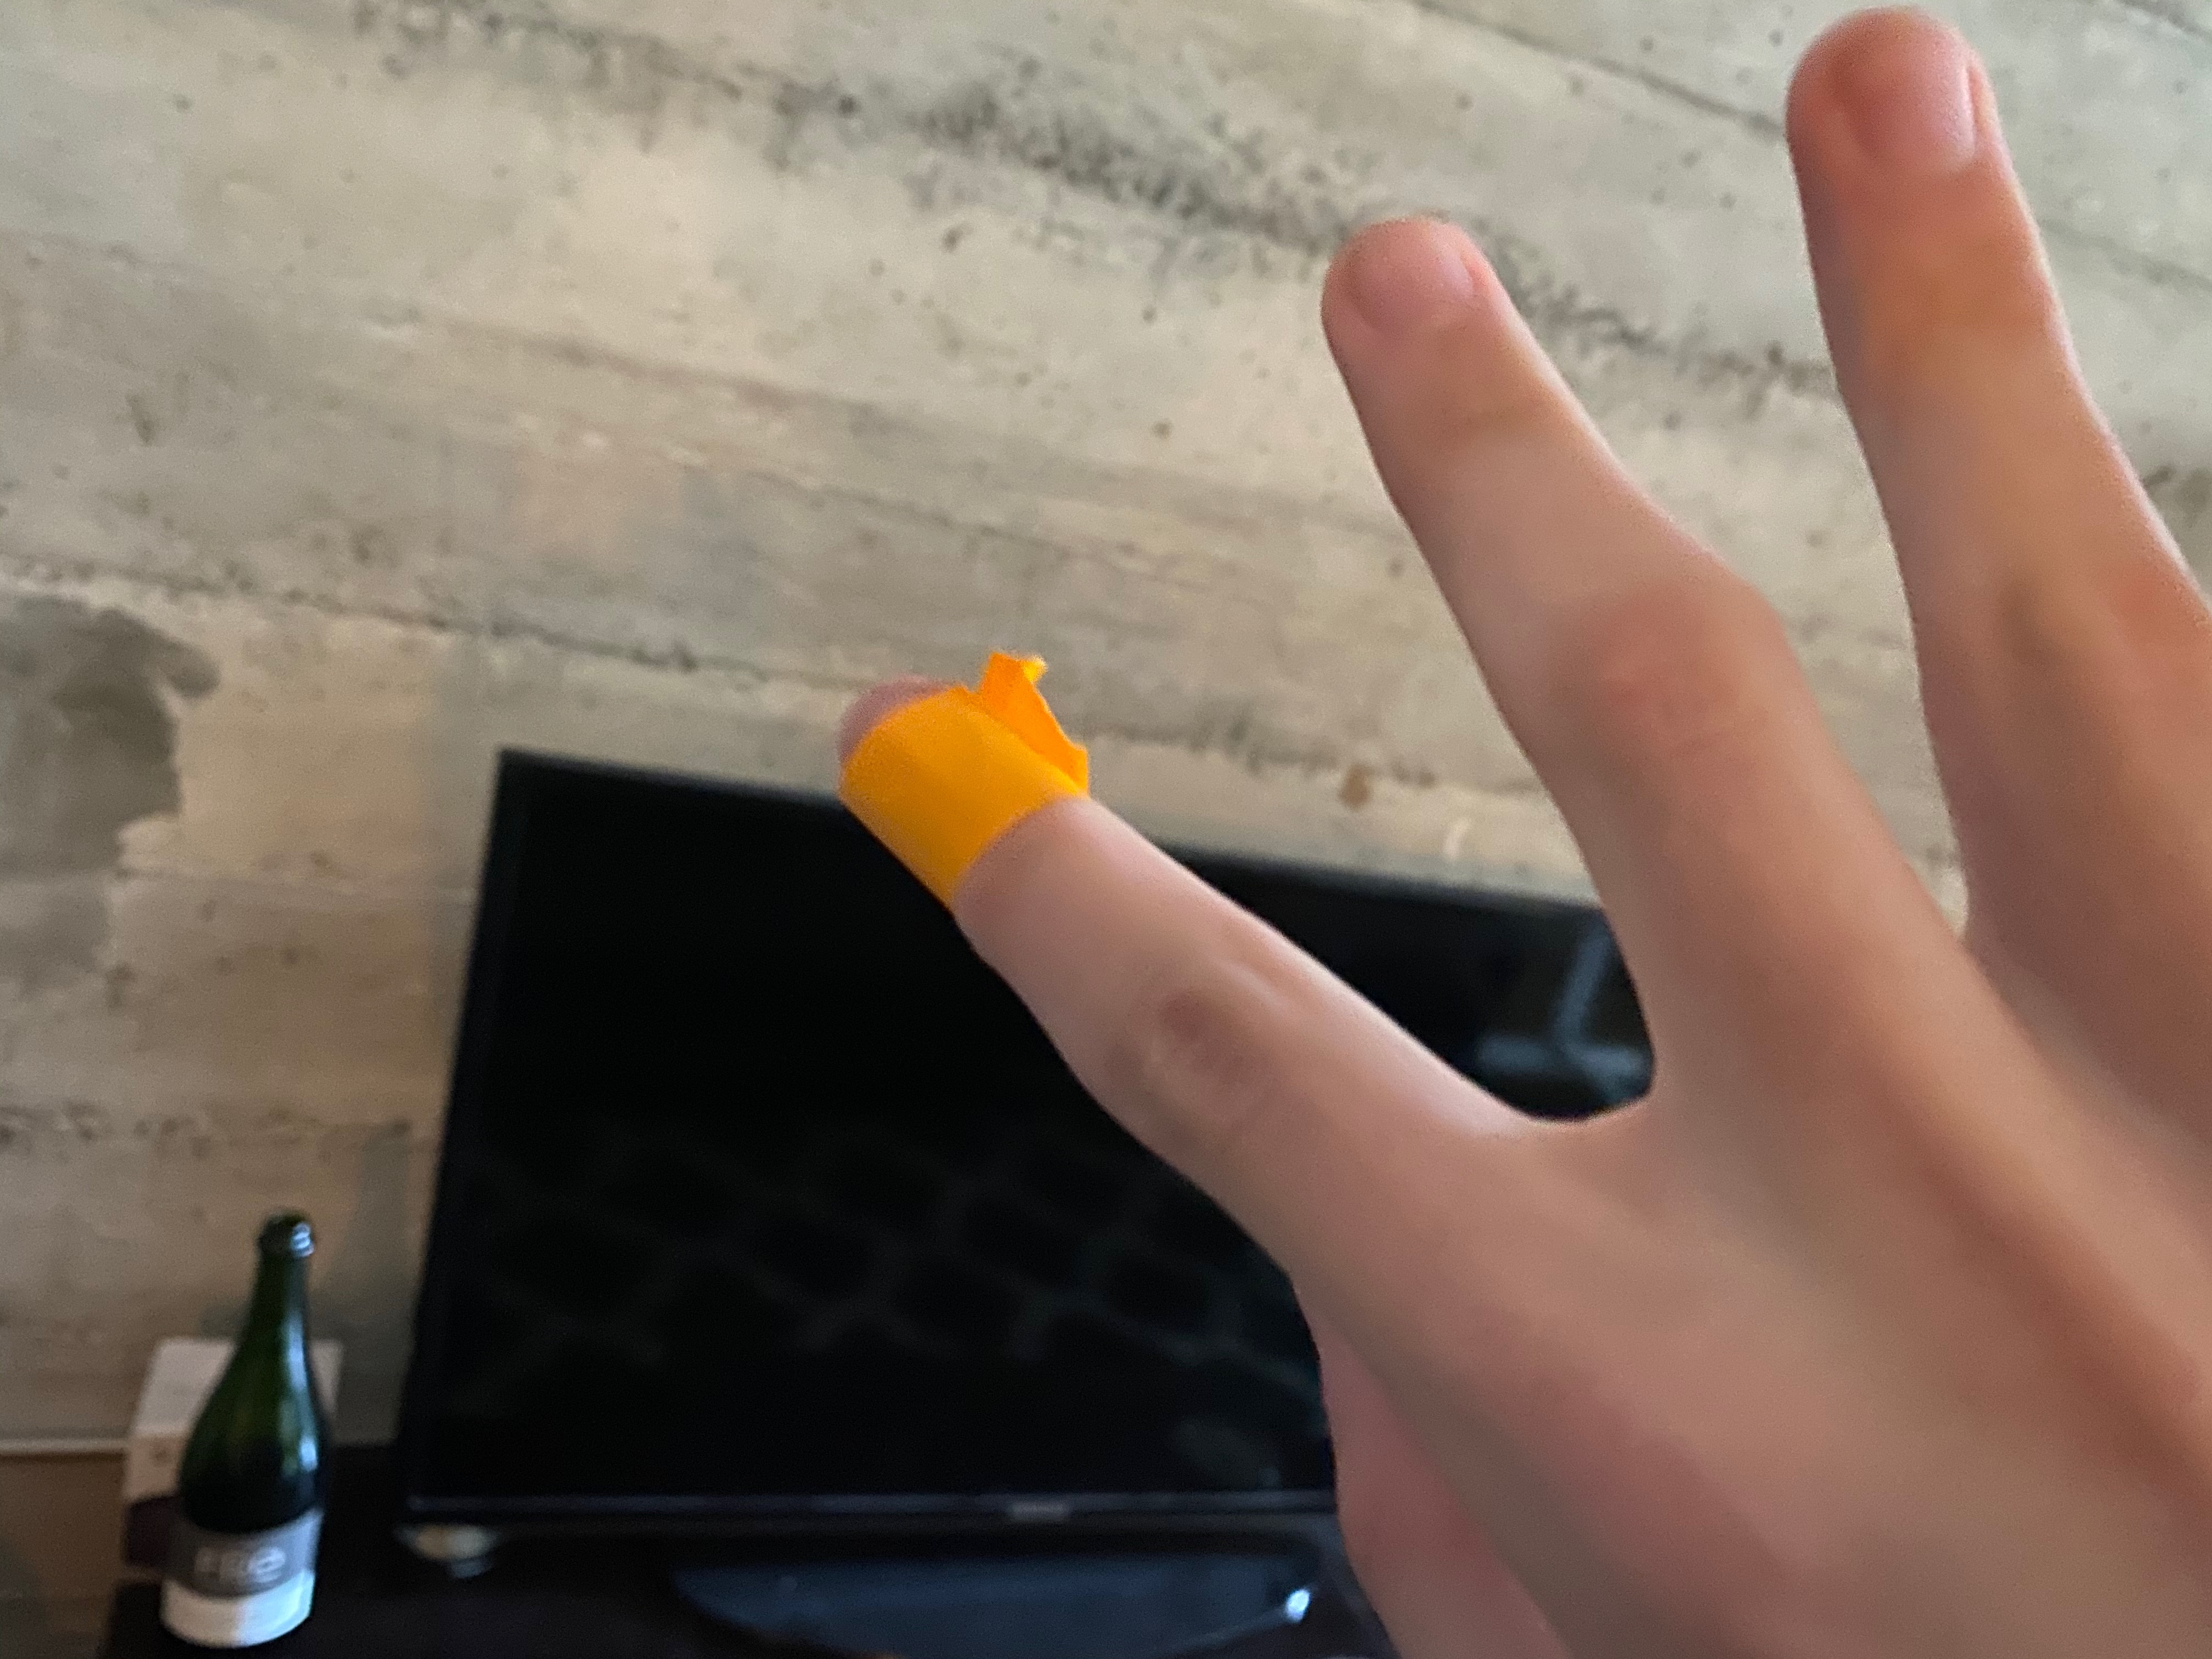fingertip: (813, 666, 1176, 955)
